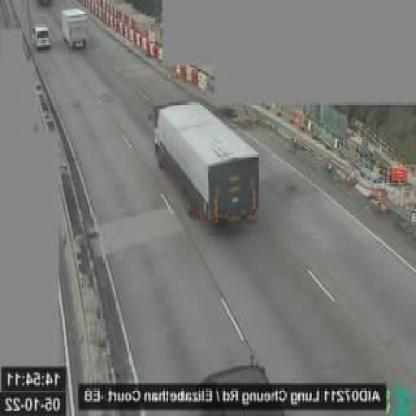Car: (35, 24, 55, 47)
Truck: (152, 102, 261, 229), (62, 9, 88, 48)
